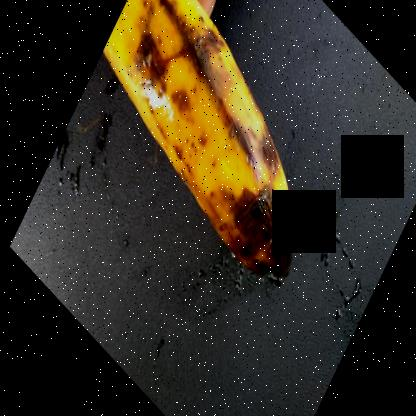rotten: (99, 0, 310, 319)
